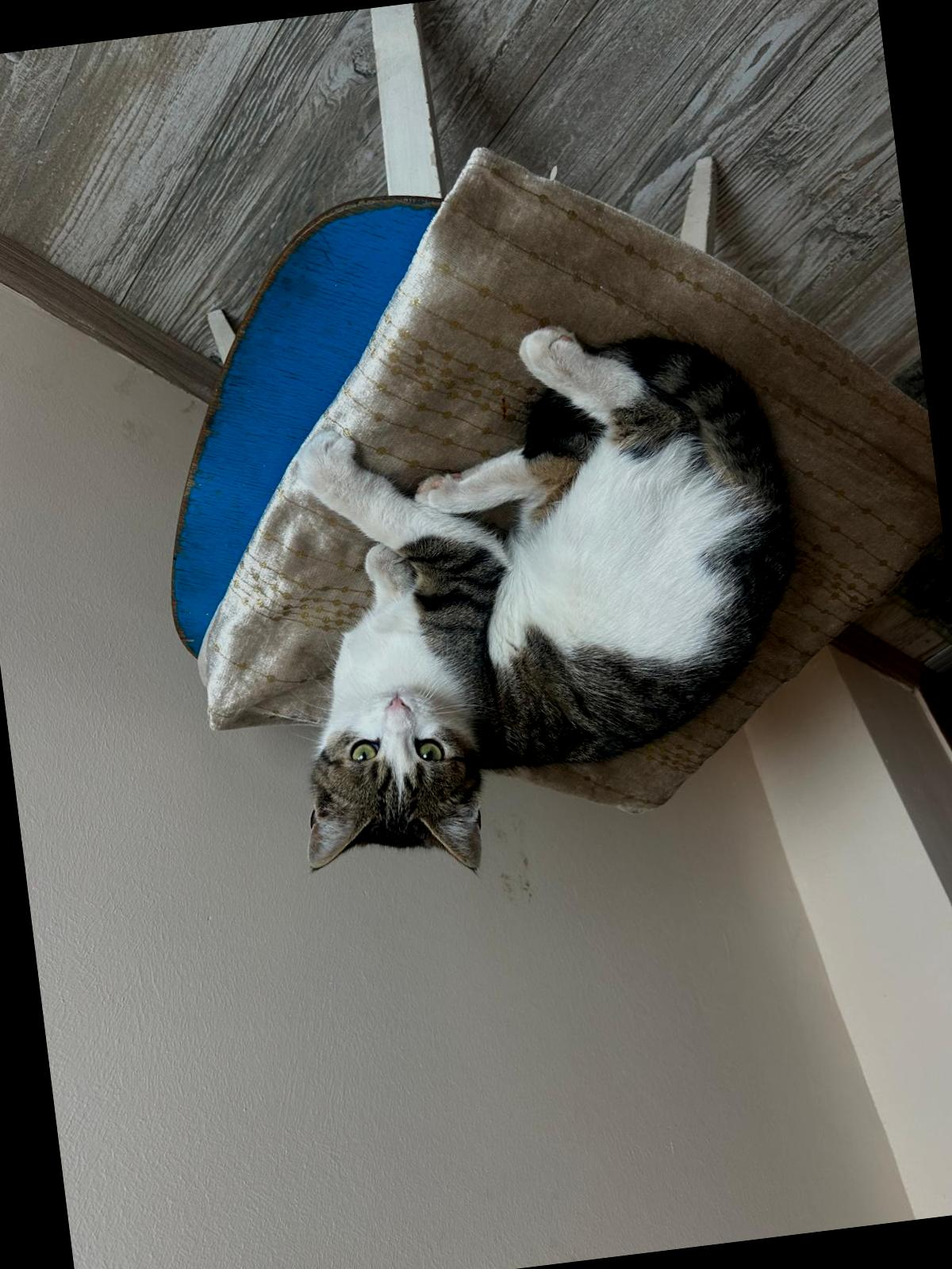macka: (246, 300, 831, 896)
